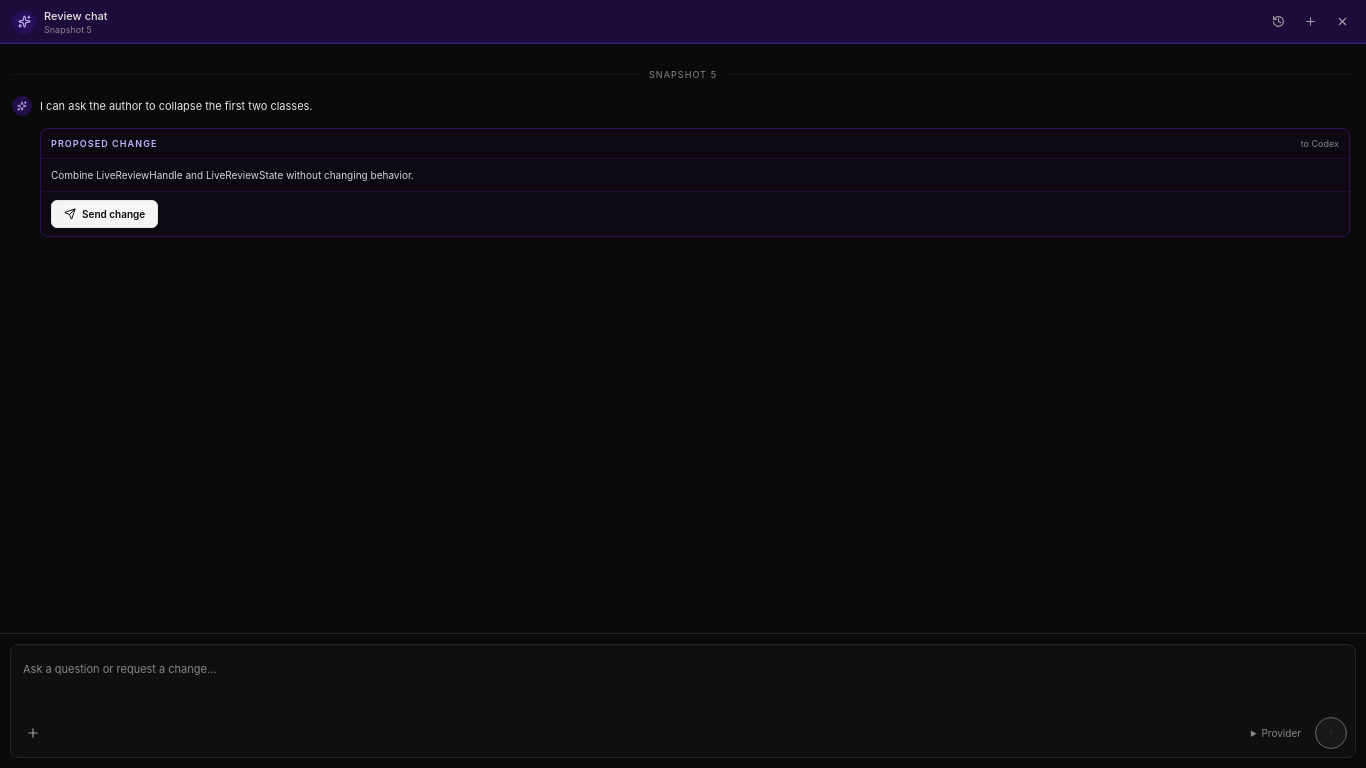
ReviewAskDrawer › shows a proposed change inline and sends only after the reviewer clicks Send change
Expected: the text "Proposed change" is shown, [51,136,158,150]
Expected: the text "Combine LiveReviewHandle and LiveReviewState" is shown, [51,169,414,181]
Click the button "Send change".
click(105, 214)  # box [51,200,158,228]
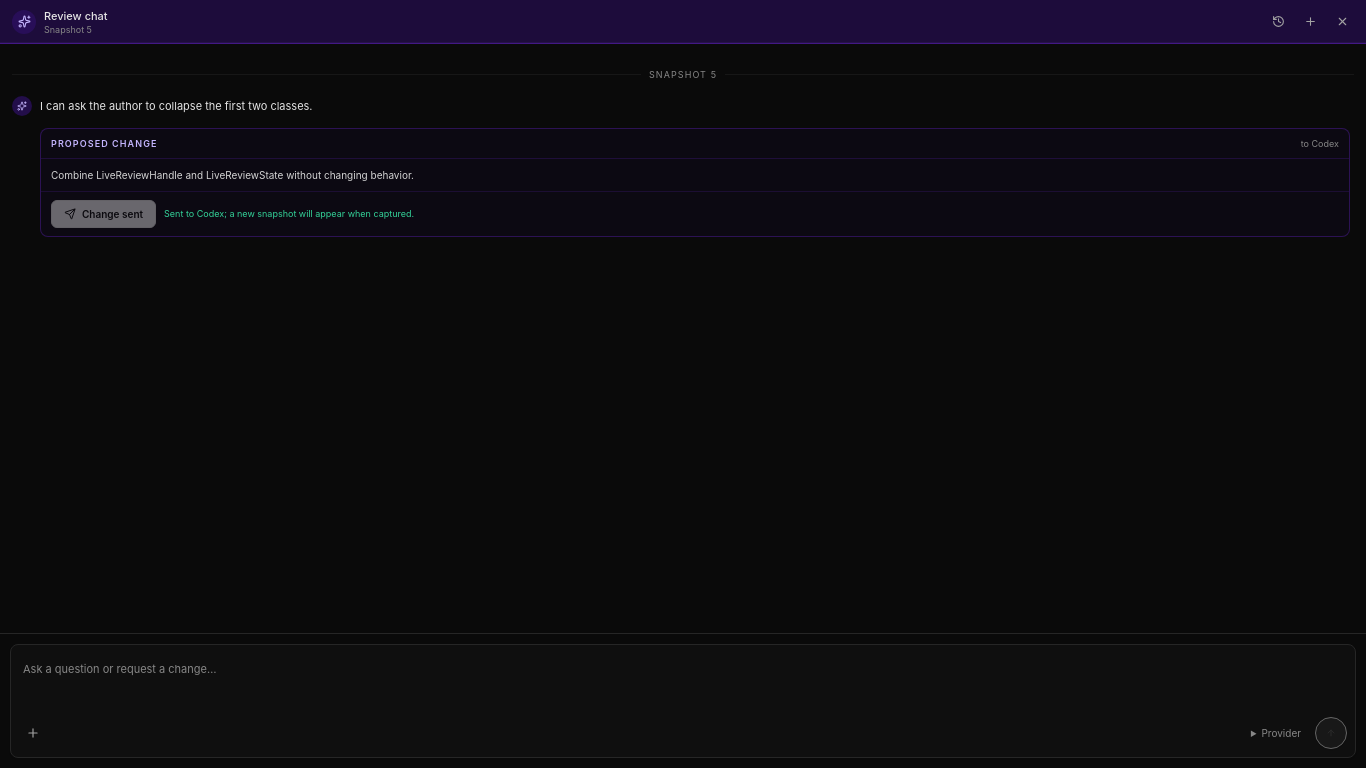
Expected: the button "Change sent" is disabled, [51,200,156,228]
